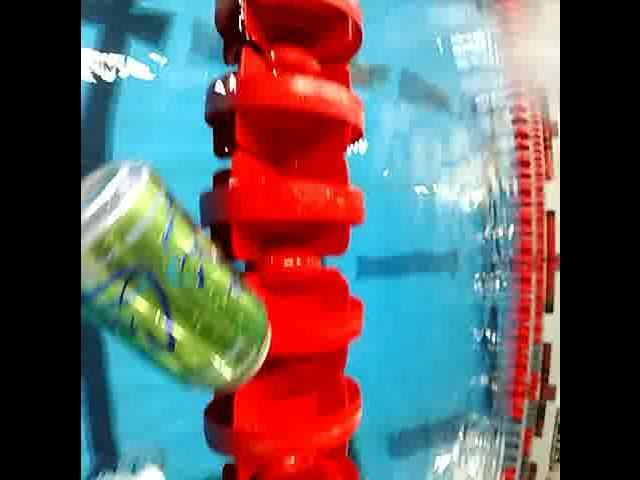Can: (80, 156, 272, 394)
